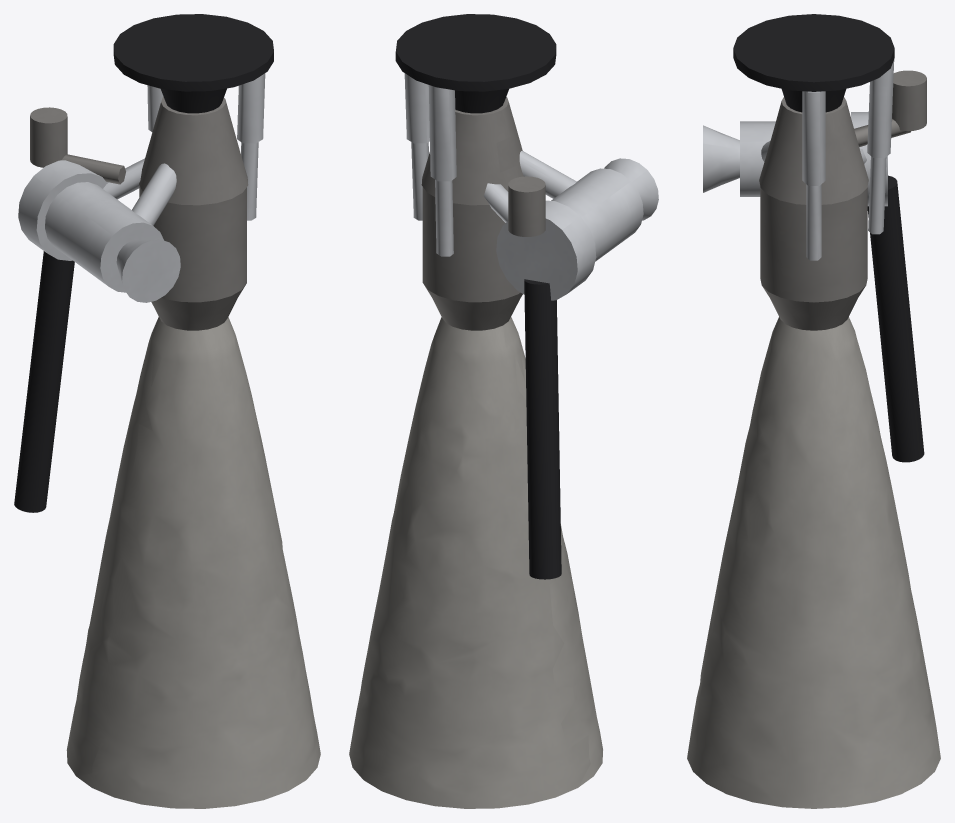
Rendered from prop08_merlin.glb.
The picture shows the model from 3 angles, left to right: view 1: azimuth 30°, elevation 25°; view 2: azimuth 150°, elevation 25°; view 3: azimuth 270°, elevation 25°; orthographic projection.
Visible parts, largest first — view 1: nozzle, turbopump, gimbal_mount, chamber, gg_exhaust, injector_dome, gimbal_actuators, gas_generator, propellant_ducts; view 2: nozzle, turbopump, gimbal_mount, gg_exhaust, chamber, gimbal_actuators, injector_dome, gas_generator, propellant_ducts; view 3: nozzle, chamber, gimbal_mount, gg_exhaust, injector_dome, gimbal_actuators, turbopump, gas_generator.
Part boxes in pixels (x1,y1,x2,y2): nozzle: [66, 317, 320, 808]; turbopump: [18, 160, 180, 302]; gimbal_mount: [113, 14, 273, 113]; chamber: [139, 186, 246, 330]; gg_exhaust: [14, 251, 74, 512]; injector_dome: [139, 97, 248, 205]; gimbal_actuators: [147, 73, 265, 220]; gas_generator: [30, 107, 125, 184]; propellant_ducts: [103, 158, 176, 225]; nozzle: [349, 317, 602, 808]; turbopump: [496, 158, 658, 300]; gimbal_mount: [395, 14, 556, 113]; gg_exhaust: [524, 279, 561, 579]; chamber: [422, 187, 522, 330]; gimbal_actuators: [404, 73, 456, 256]; injector_dome: [421, 97, 523, 205]; gas_generator: [508, 176, 545, 236]; propellant_ducts: [483, 151, 576, 222]; nozzle: [687, 317, 940, 808]; chamber: [760, 187, 867, 330]; gimbal_mount: [733, 14, 894, 112]; gg_exhaust: [867, 175, 924, 462]; injector_dome: [759, 97, 868, 204]; gimbal_actuators: [802, 59, 894, 260]; turbopump: [703, 112, 887, 206]; gas_generator: [854, 70, 926, 146].
Bounding box in the file's own units: 1.07 × 2.9 × 0.9437.
4 materials, 3 textured.
